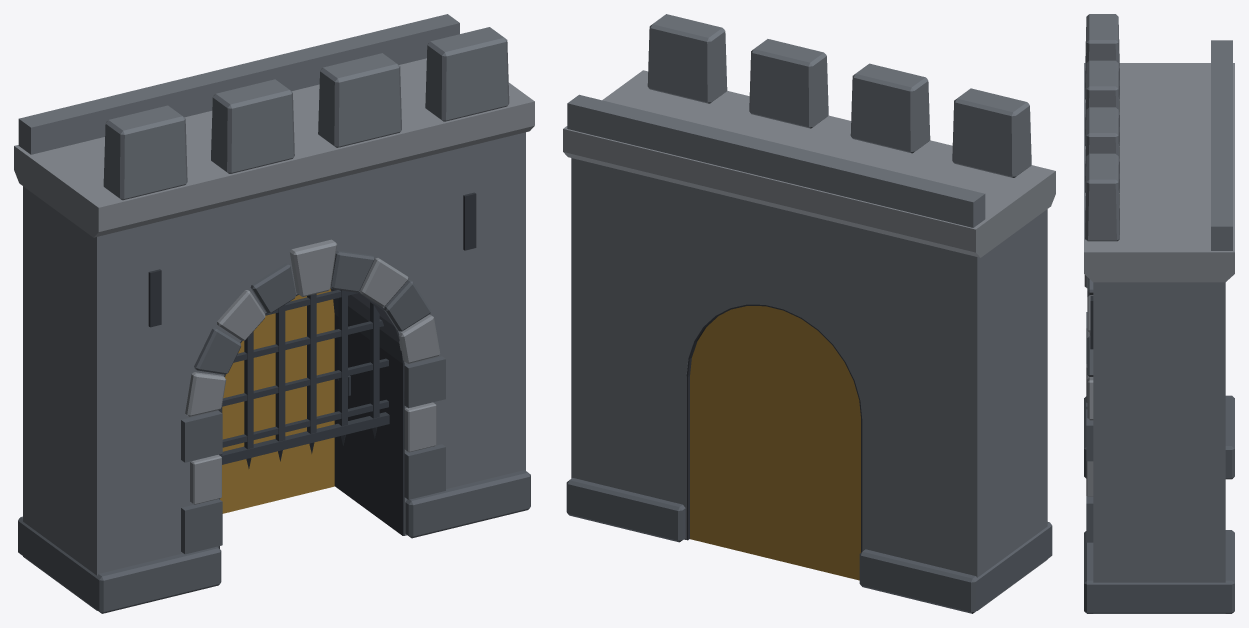
The model's file is Castle_Gate.fbx.
The picture shows the model from 3 angles, left to right: view 1: azimuth 30°, elevation 25°; view 2: azimuth 150°, elevation 25°; view 3: azimuth 270°, elevation 25°; orthographic projection. The views are drawn at different scales.
Parts seen in each view (by area): view 1: Wall, Trim, Base, Doorway, Dark, Portcullis; view 2: Wall, Doorway, Trim, Base, Dark; view 3: Wall, Trim, Base.
Boxes of the visible parts, box(x1,y1,x2,y2) form: Wall: box(18, 14, 525, 610); Trim: box(14, 58, 534, 504); Base: box(18, 250, 530, 613); Doorway: box(220, 288, 334, 513); Dark: box(148, 192, 476, 548); Portcullis: box(220, 290, 389, 468); Wall: box(567, 14, 1047, 610); Doorway: box(690, 306, 860, 580); Trim: box(563, 70, 1055, 257); Base: box(566, 478, 1052, 613); Dark: box(686, 304, 862, 552); Wall: box(1085, 14, 1232, 613); Trim: box(1084, 63, 1234, 496); Base: box(1084, 277, 1234, 613).
Size of the model in its own units: 12.2 by 12.75 by 4.1.
